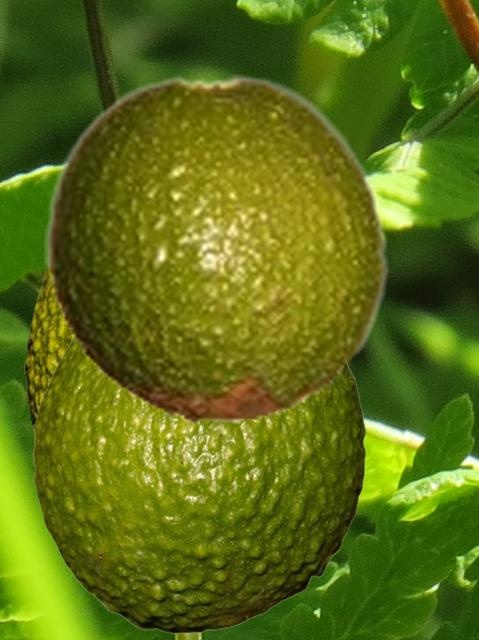avocado: (44, 74, 391, 424), (32, 338, 365, 632), (24, 269, 71, 433)
